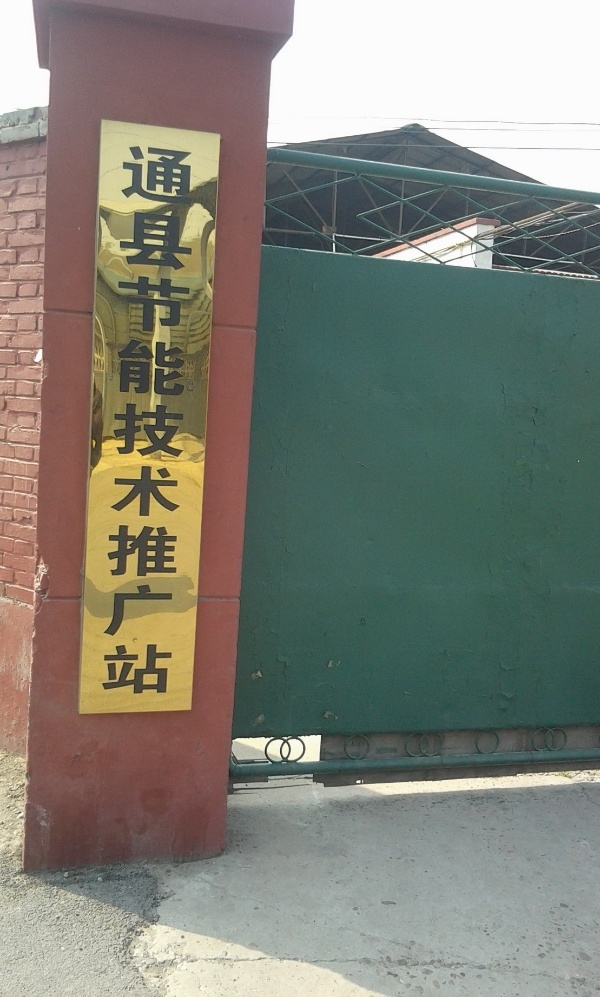text: (129, 141, 144, 702), (145, 141, 160, 702), (161, 141, 176, 702), (177, 141, 192, 702), (117, 141, 128, 702), (193, 141, 199, 702)
